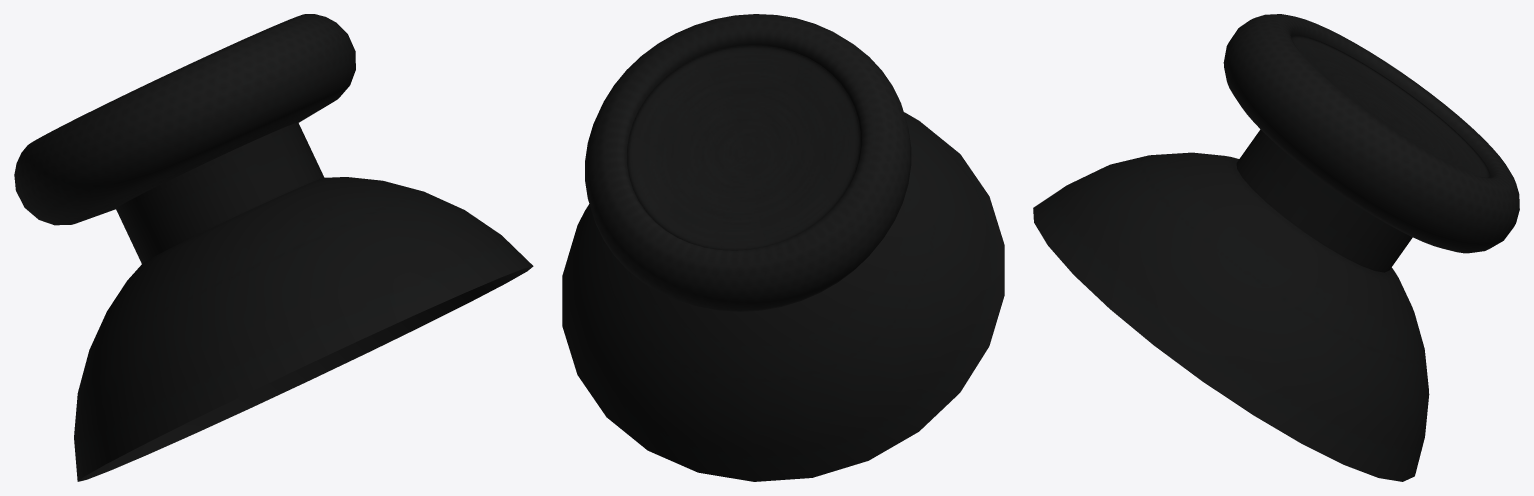
File: frame_controller_right_thumbstick.obj
3 views of the same model, side by side, from view 1: azimuth 30°, elevation 25°; view 2: azimuth 150°, elevation 25°; view 3: azimuth 270°, elevation 25° (orthographic). The views are drawn at different scales.
Parts seen in each view (by area): view 1: frame_controller_right_thumbstick; view 2: frame_controller_right_thumbstick; view 3: frame_controller_right_thumbstick.
Part boxes in pixels (box(x1,y1,x2,y2)): frame_controller_right_thumbstick: box(14, 14, 533, 481); frame_controller_right_thumbstick: box(562, 14, 1004, 481); frame_controller_right_thumbstick: box(1033, 14, 1519, 481).
Size of the model in its own units: 0.0233 by 0.0237 by 0.0247.
1 material, 1 textured.
